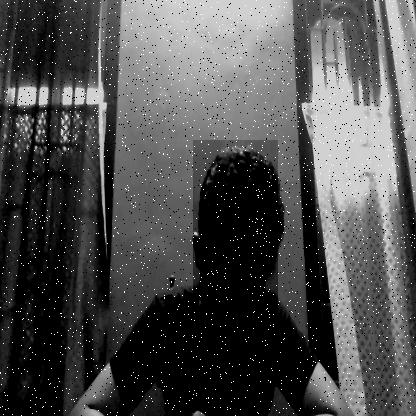Distracted: (193, 140, 278, 369)
